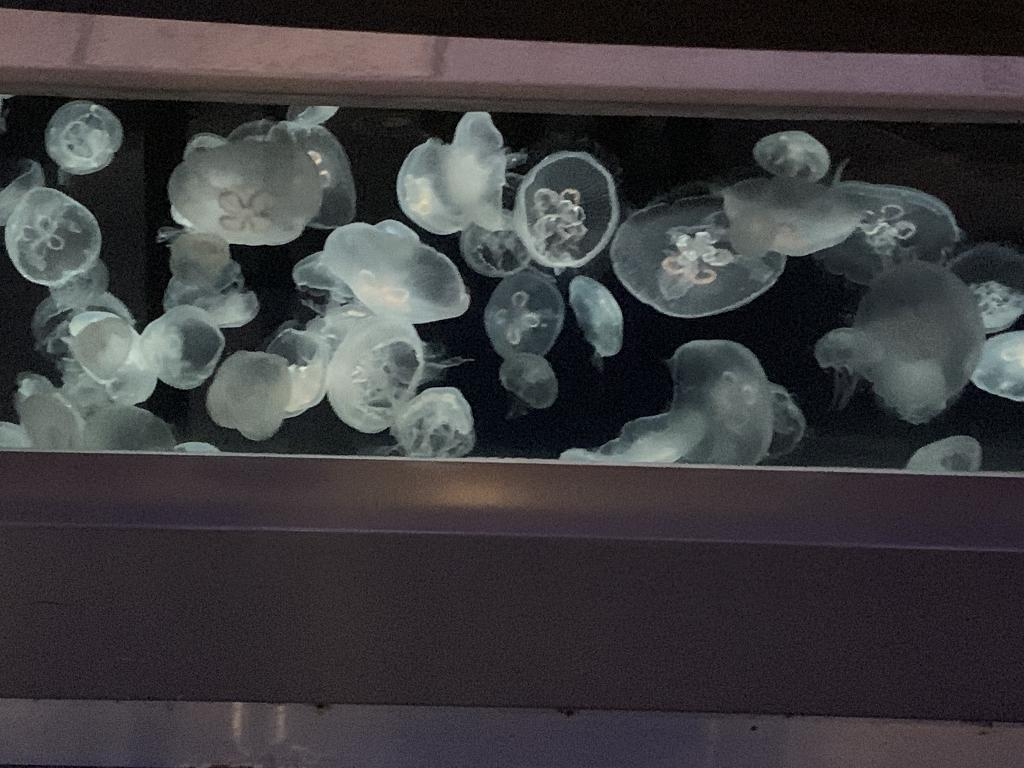jellyfish: (605, 184, 793, 326), (621, 322, 795, 474), (817, 262, 977, 414), (161, 119, 327, 250), (305, 208, 471, 332), (508, 143, 630, 275), (391, 110, 513, 238), (246, 106, 366, 230), (35, 282, 155, 404), (823, 169, 959, 275), (320, 307, 430, 421), (718, 167, 854, 258), (102, 304, 224, 397), (208, 344, 314, 442), (156, 231, 260, 329), (558, 412, 708, 474), (5, 180, 93, 284), (24, 242, 130, 324), (76, 384, 182, 466), (260, 321, 336, 429), (451, 197, 539, 279), (561, 277, 639, 367), (480, 268, 560, 354), (390, 382, 476, 462), (945, 238, 1023, 326), (15, 368, 97, 450), (42, 104, 122, 174), (903, 417, 989, 477), (495, 350, 565, 416), (751, 129, 831, 183), (973, 321, 1023, 405)
